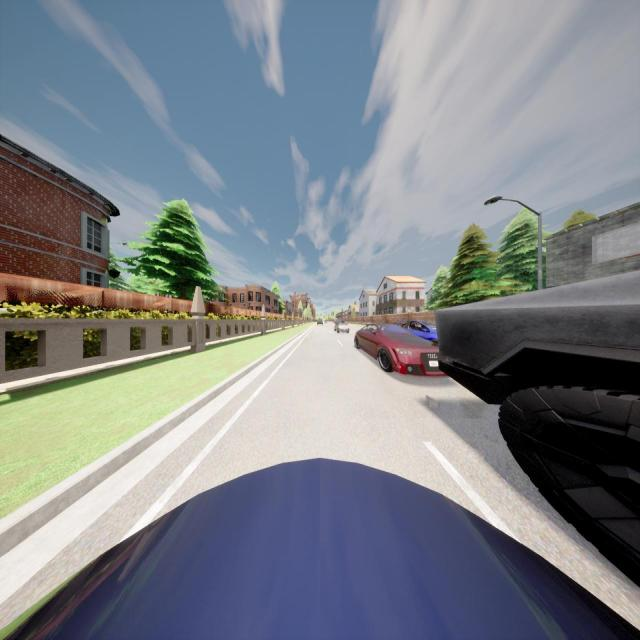Vehicle: (2, 455, 640, 640), (432, 272, 640, 590), (355, 323, 441, 377), (397, 320, 439, 345), (334, 320, 350, 333), (317, 318, 323, 325), (324, 320, 328, 324)
